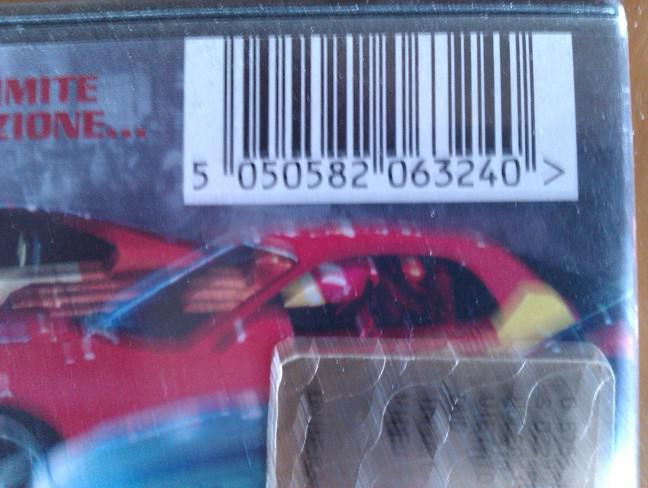Barkod: (182, 33, 576, 201)
